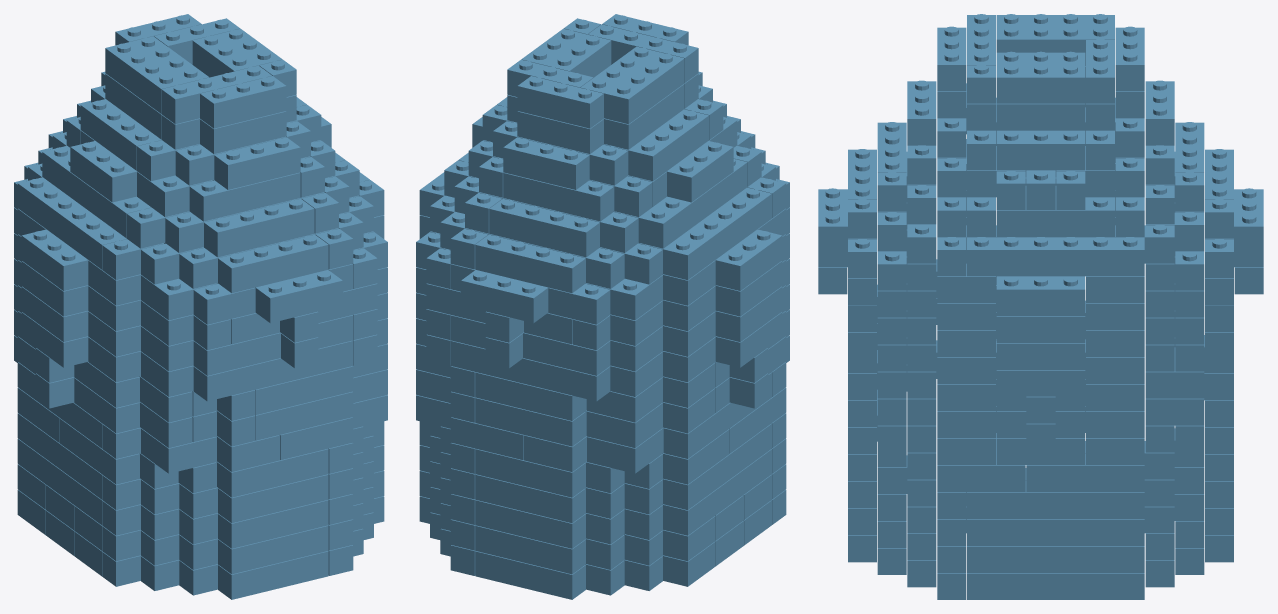
The model's file is 176_jar_L1.glb.
The picture shows the model from 3 angles, left to right: view 1: azimuth 30°, elevation 25°; view 2: azimuth 150°, elevation 25°; view 3: azimuth 270°, elevation 25°; orthographic projection. The views are drawn at different scales.
Bounding box in the file's own units: 12.98 × 18.13 × 14.98.
